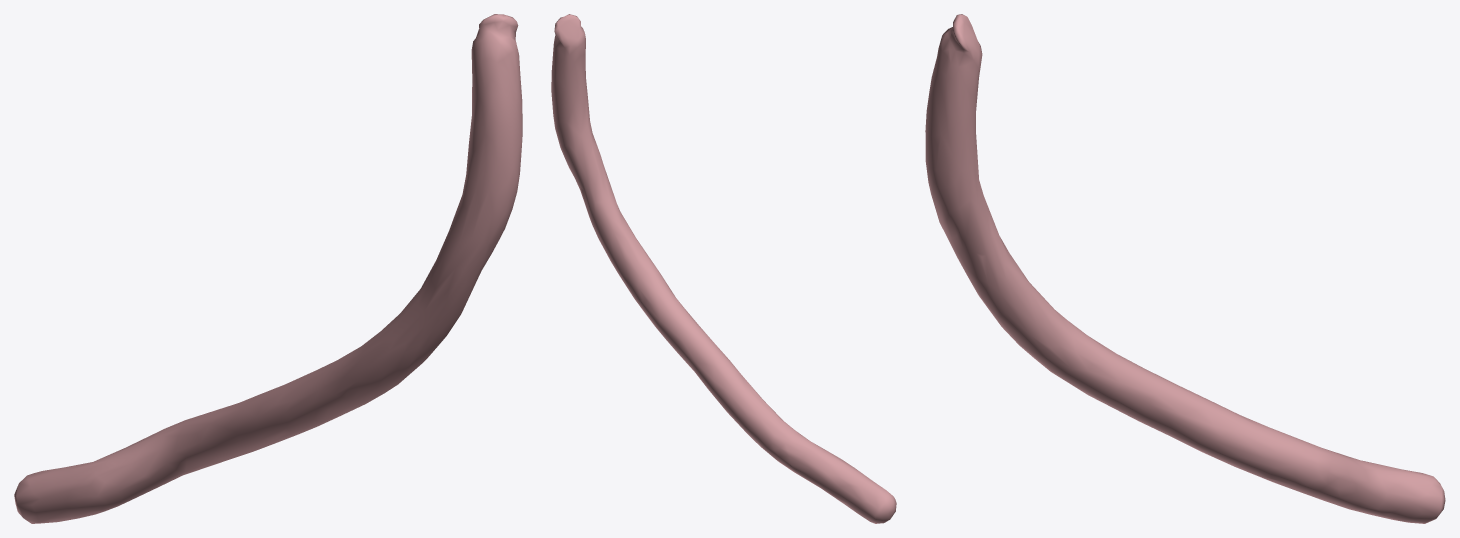
File: fma55450_mm1207.glb
The picture shows the model from 3 angles, left to right: view 1: azimuth 30°, elevation 25°; view 2: azimuth 210°, elevation 25°; view 3: azimuth 270°, elevation 25°; orthographic projection. The views are drawn at different scales.
Visible parts, largest first — view 1: FMA55450_MM1207; view 2: FMA55450_MM1207; view 3: FMA55450_MM1207.
Part boxes in pixels (box(x1,y1,x2,y2)): FMA55450_MM1207: box(14, 14, 522, 523); FMA55450_MM1207: box(551, 14, 896, 523); FMA55450_MM1207: box(925, 14, 1445, 523).
Bounding box in the file's own units: 0.0067 × 0.0152 × 0.0117.
